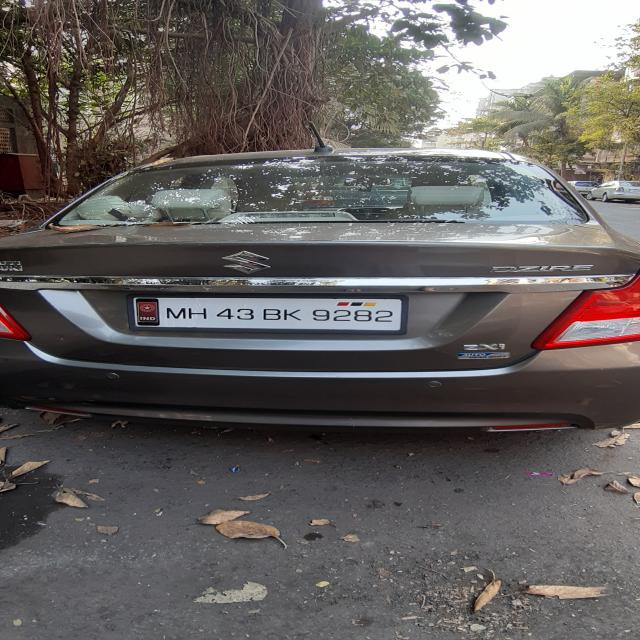Number-Plate: (137, 299, 401, 330)
